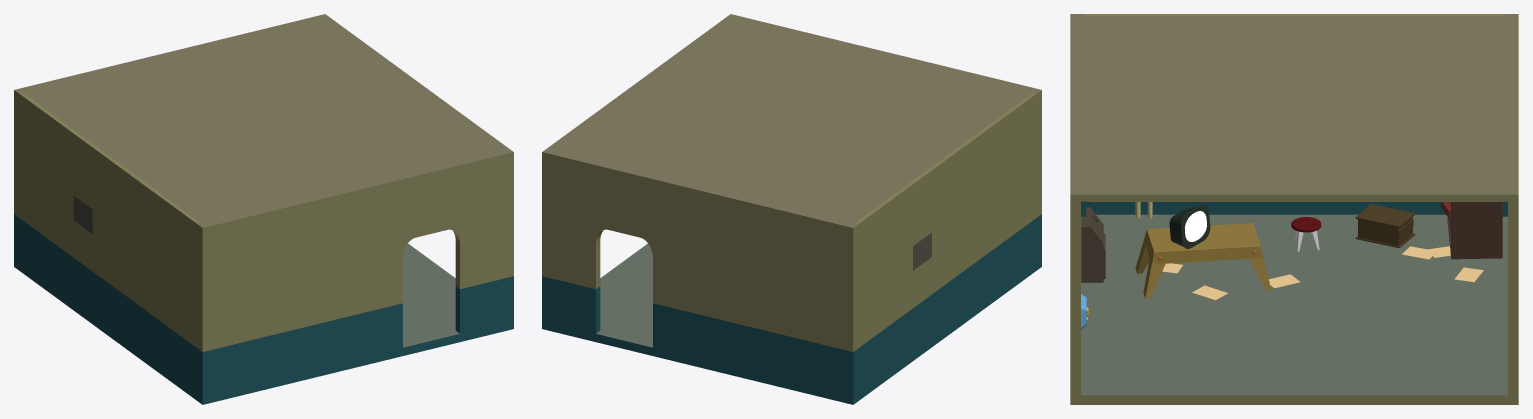
The model's file is SheldUp.fbx.
The picture shows the model from 3 angles, left to right: view 1: azimuth 30°, elevation 25°; view 2: azimuth 150°, elevation 25°; view 3: azimuth 270°, elevation 25°; orthographic projection. The views are drawn at different scales.
Visible parts, largest first — view 1: Sheld; view 2: Sheld; view 3: Sheld.
Boxes of the visible parts, x1,y1,x2,y2 form: Sheld: (14, 14, 513, 404); Sheld: (542, 14, 1041, 404); Sheld: (1070, 14, 1518, 404).
Size of the model in its own units: 400 by 217 by 420.
